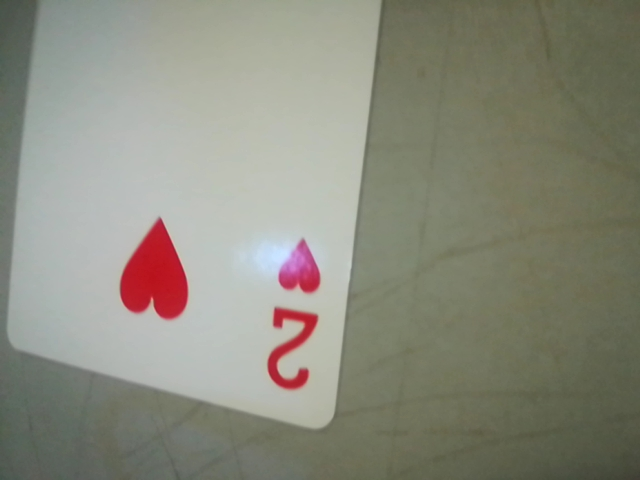hx 2: (250, 218, 336, 413)
